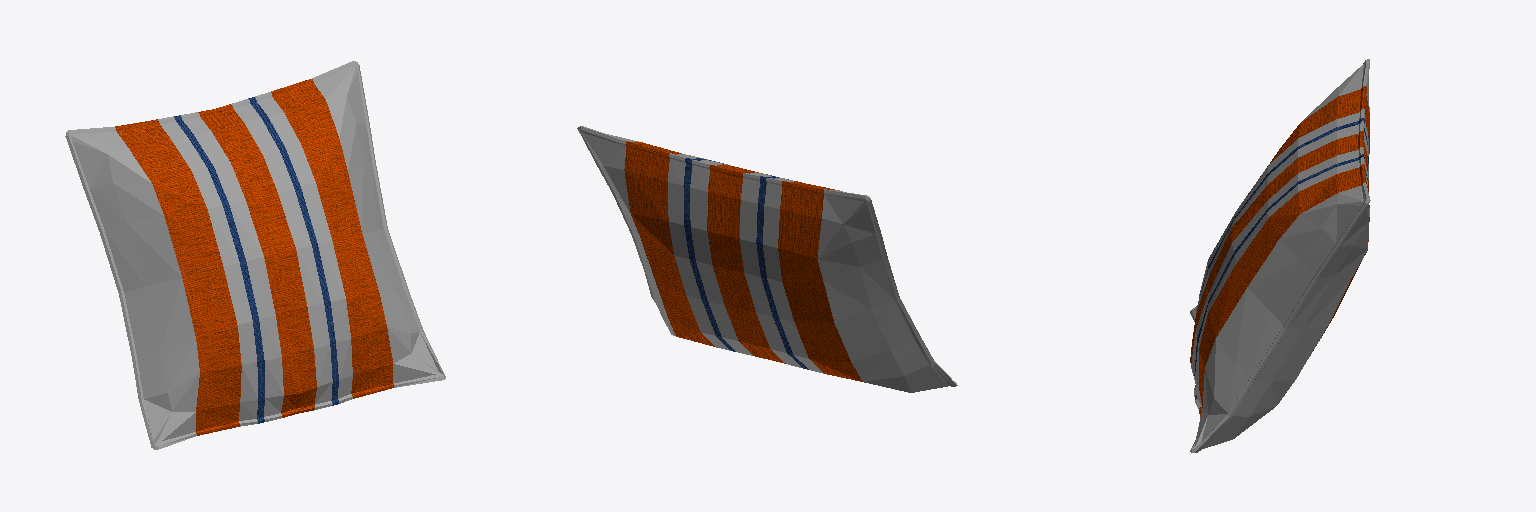
The picture shows the model from 3 angles: view 1: azimuth 30°, elevation 25°; view 2: azimuth 150°, elevation 25°; view 3: azimuth 270°, elevation 25°; orthographic projection.
Bounding box in the file's own units: 0.45 × 0.3737 × 0.24.
Materials: 4 (2 with a texture image).